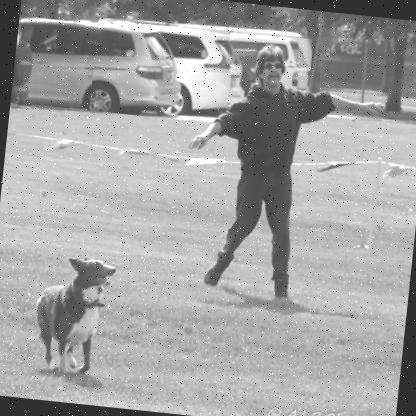Car: (12, 16, 190, 120), (88, 17, 254, 127), (224, 30, 314, 98), (9, 17, 42, 108)
